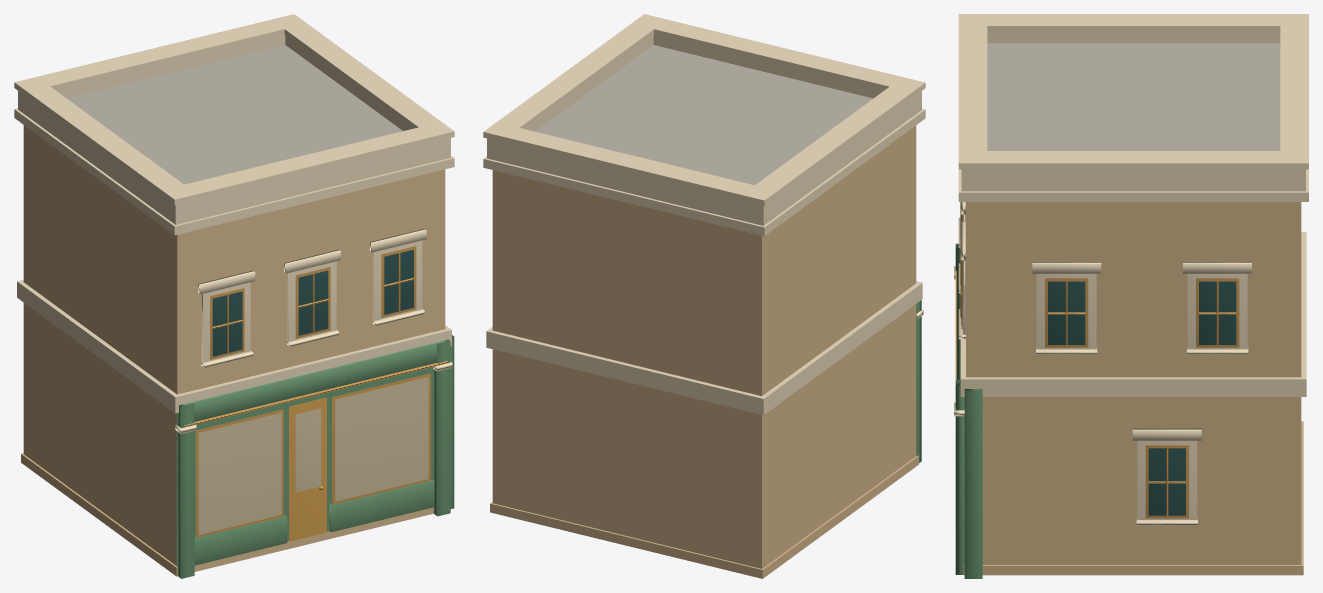
File: building_low_tan.glb
3 views of the same model, side by side, from view 1: azimuth 30°, elevation 25°; view 2: azimuth 150°, elevation 25°; view 3: azimuth 270°, elevation 25° (orthographic). The views are drawn at different scales.
Parts seen in each view (by area): view 1: WallUpper, Roof, WallGround, ParapetCap, Parapet, ShopWinGlass1, ShopWinGlass0, Band0, ShopFascia, Cornice, Plinth, ShopBack (+22 smaller); view 2: WallUpper, WallGround, Roof, ParapetCap, Parapet, Band0, Cornice, Plinth, ShopPilaster0.10; view 3: WallGround, WallUpper, Roof, ParapetCap, Parapet, Band0, Cornice, Plinth, GreenPier, SG0Glass, SW0Glass, SW1Glass (+10 smaller).
Boxes of the visible parts, x1,y1,x2,y2 form: WallUpper: [23, 125, 445, 394]; Roof: [66, 45, 402, 184]; WallGround: [23, 303, 176, 565]; ParapetCap: [14, 14, 454, 205]; Parapet: [18, 35, 450, 224]; ShopWinGlass1: [335, 377, 428, 501]; ShopWinGlass0: [198, 413, 281, 534]; Band0: [17, 280, 451, 413]; ShopFascia: [183, 340, 445, 421]; Cornice: [14, 108, 454, 235]; Plinth: [21, 453, 433, 576]; ShopBack: [194, 367, 434, 541]; WallUpper: [492, 125, 916, 395]; WallGround: [492, 304, 916, 568]; Roof: [535, 45, 872, 185]; ParapetCap: [483, 14, 925, 205]; Parapet: [487, 35, 921, 225]; Band0: [486, 281, 922, 415]; Cornice: [483, 109, 925, 236]; Plinth: [490, 455, 918, 578]; ShopPilaster0.10: [916, 300, 921, 462]; WallGround: [982, 397, 1301, 564]; WallUpper: [966, 202, 1301, 377]; Roof: [987, 43, 1280, 150]; ParapetCap: [958, 14, 1308, 169]; Parapet: [961, 32, 1305, 191]; Band0: [960, 232, 1306, 396]; Cornice: [958, 169, 1308, 201]; Plinth: [964, 421, 1303, 575]; GreenPier: [964, 389, 982, 578]; SG0Glass: [1148, 448, 1185, 515]; SW0Glass: [1048, 281, 1085, 344]; SW1Glass: [1199, 281, 1236, 344].
Size of the model in its own units: 4.72 by 6.07 by 4.71.
